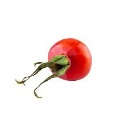tomato: (47, 38, 92, 81)
